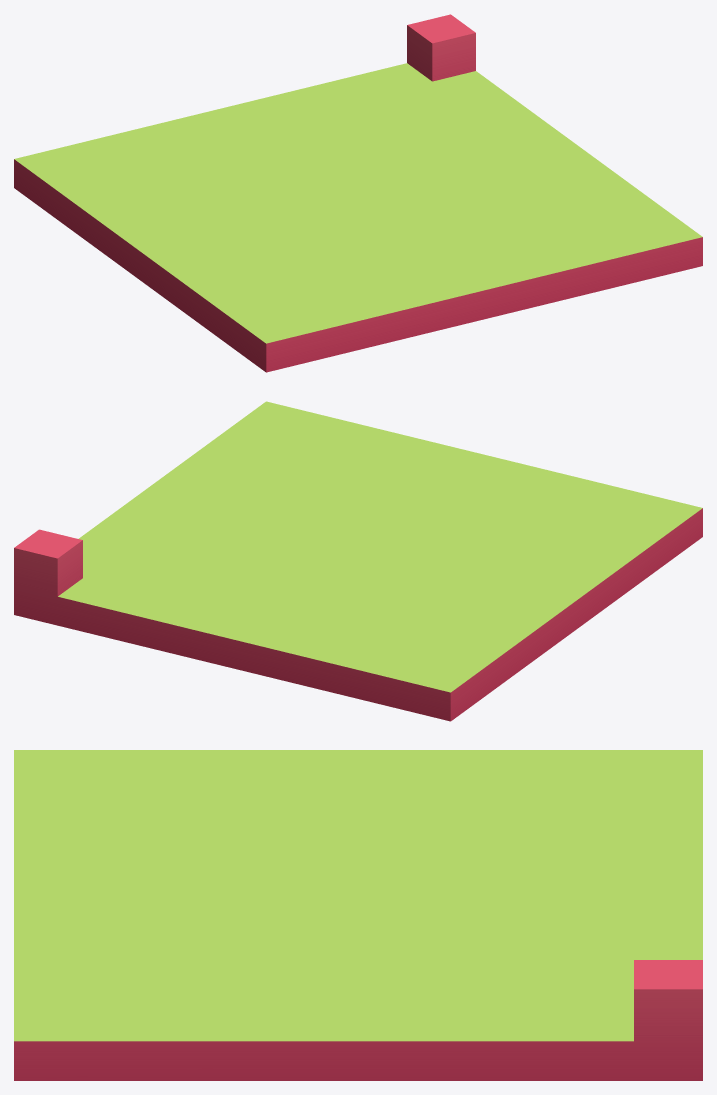
The model's file is inner-corner.gltf.
3 views of the same model, one above another, from view 1: azimuth 30°, elevation 25°; view 2: azimuth 150°, elevation 25°; view 3: azimuth 270°, elevation 25° (orthographic). The views are drawn at different scales.
Parts seen in each view (by area): view 1: inner-corner; view 2: inner-corner; view 3: inner-corner.
Part boxes in pixels (x1=…): inner-corner: x1=14, y1=14, x2=702, y2=372; inner-corner: x1=14, y1=401, x2=702, y2=721; inner-corner: x1=14, y1=750, x2=702, y2=1080.
Size of the model in its own units: 0.9999 by 0.1467 by 0.9999.
1 material, 1 textured.
